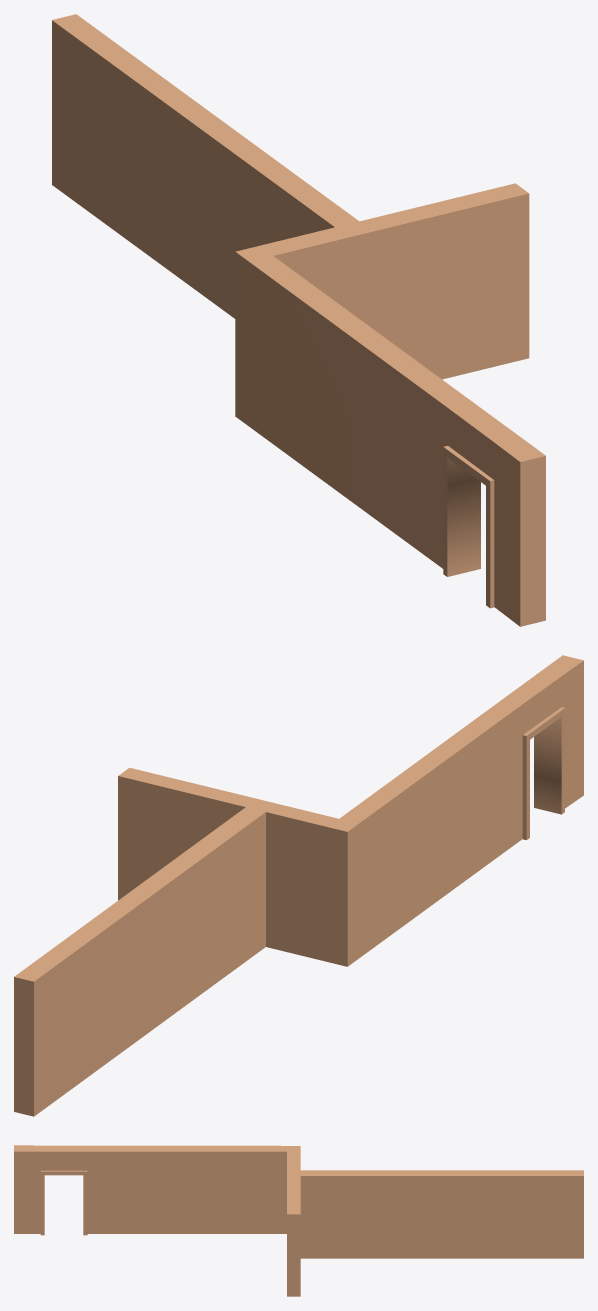
Rendered from ParedeLow.fbx.
3 renders of one model, top to bottom at view 1: azimuth 30°, elevation 25°; view 2: azimuth 150°, elevation 25°; view 3: azimuth 270°, elevation 25°, orthographic. The views are drawn at different scales.
Parts seen in each view (by area): view 1: ParedeEscada.002; view 2: ParedeEscada.002; view 3: ParedeEscada.002.
Part boxes in pixels (x1=…): ParedeEscada.002: x1=52, y1=14, x2=545, y2=626; ParedeEscada.002: x1=14, y1=655, x2=583, y2=1116; ParedeEscada.002: x1=14, y1=1145, x2=583, y2=1296.
Bounding box in the file's own units: 720 × 397 × 2488.
